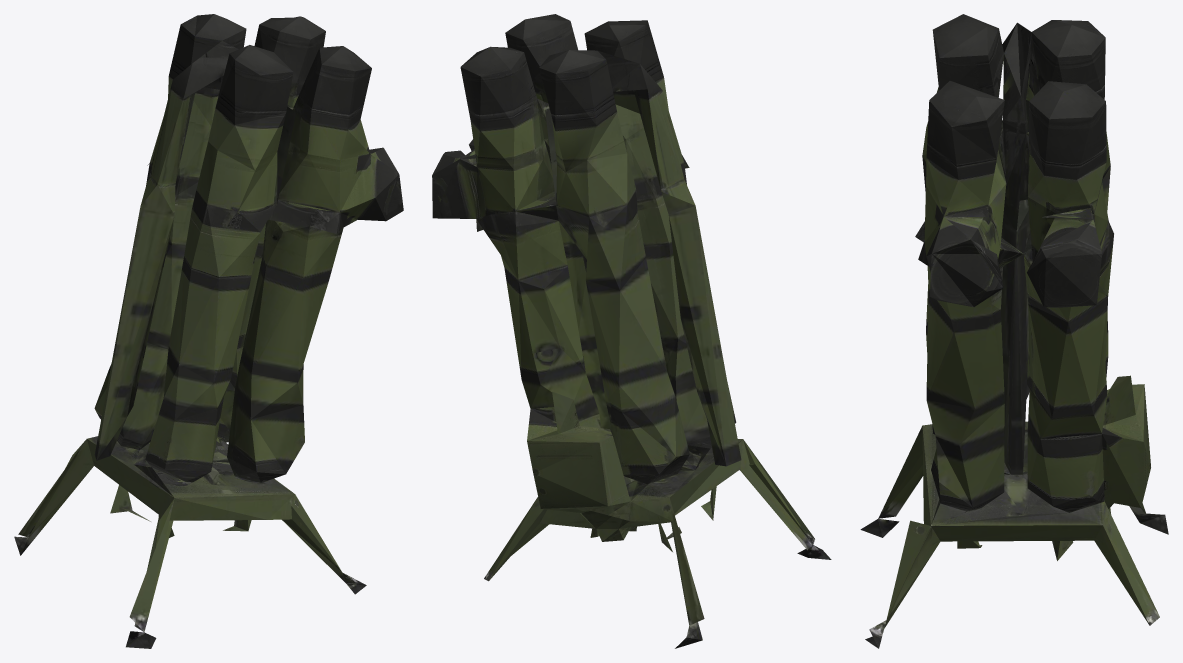
File: launcher.glb
3 renders of one model, left to right at view 1: azimuth 30°, elevation 25°; view 2: azimuth 150°, elevation 25°; view 3: azimuth 270°, elevation 25°, orthographic. The views are drawn at different scales.
Visible parts, largest first — view 1: at_nlos_team_launcher; view 2: at_nlos_team_launcher; view 3: at_nlos_team_launcher.
Boxes of the visible parts, <box> form: at_nlos_team_launcher: <box>14,14,403,648</box>; at_nlos_team_launcher: <box>432,14,831,648</box>; at_nlos_team_launcher: <box>860,14,1168,648</box>.
Size of the model in its own units: 1.35 by 2.2 by 1.04.
Materials: 1 (1 with a texture image).
